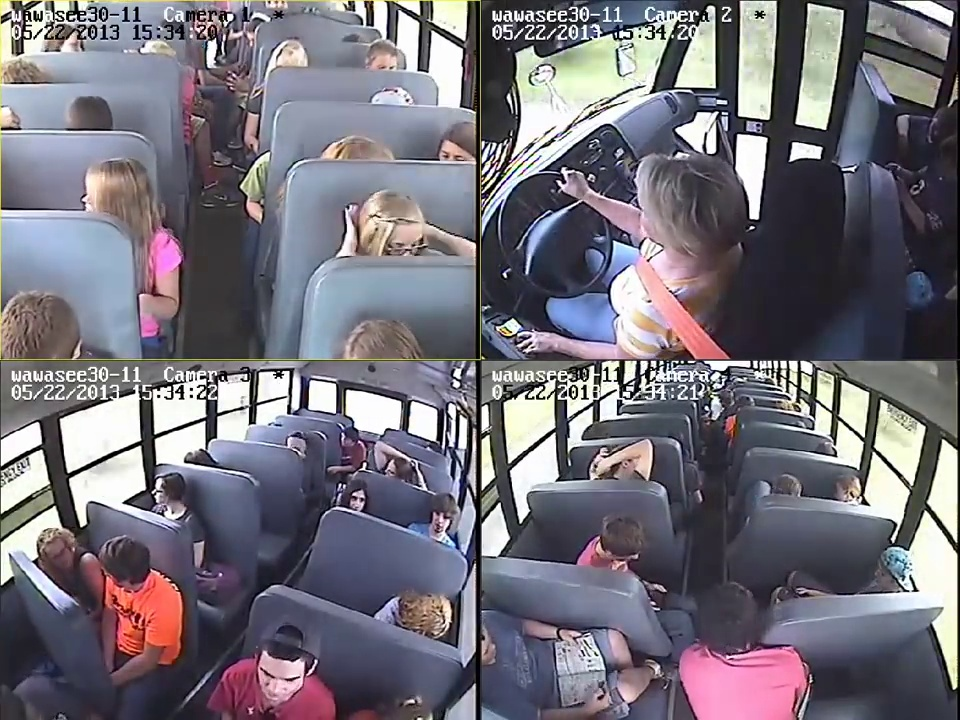face: (258, 649, 302, 706), (377, 220, 423, 256)
